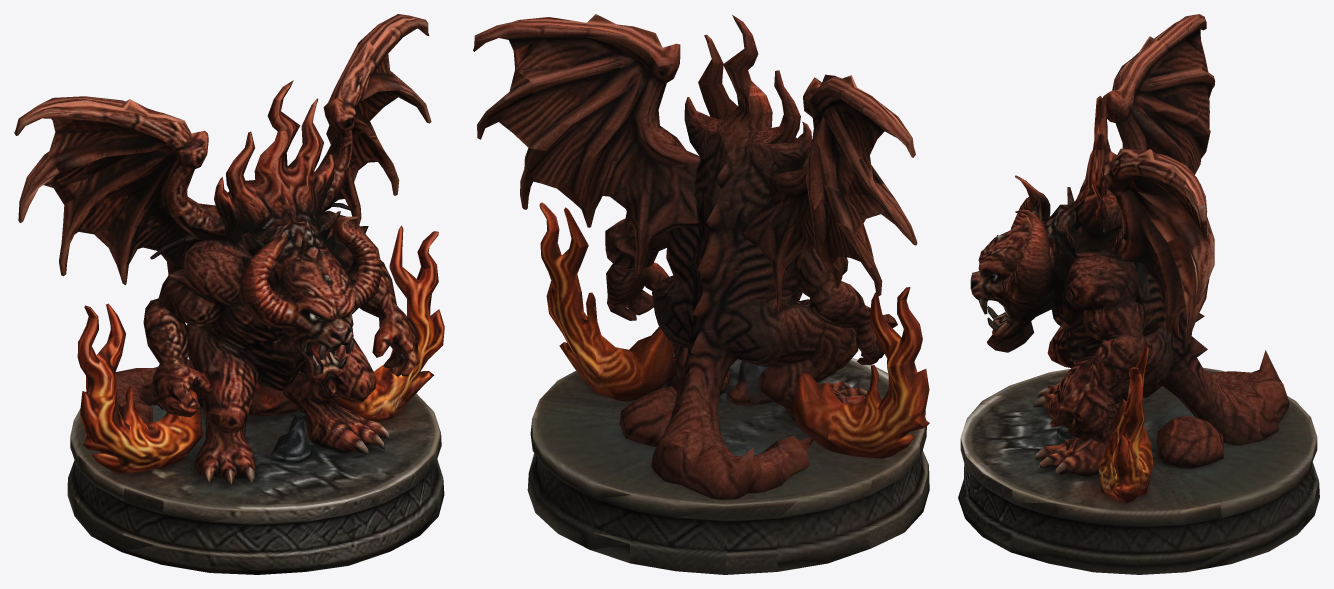
File: balrog.glb
The picture shows the model from 3 angles, left to right: view 1: azimuth 30°, elevation 25°; view 2: azimuth 150°, elevation 25°; view 3: azimuth 270°, elevation 25°; orthographic projection. The views are drawn at different scales.
Parts seen in each view (by area): view 1: mesh_node; view 2: mesh_node; view 3: mesh_node.
Part boxes in pixels (x1,y1,x2,y2): mesh_node: (14, 14, 444, 574); mesh_node: (473, 14, 929, 574); mesh_node: (958, 14, 1319, 574).
Bounding box in the file's own units: 1 × 0.9922 × 0.793.
1 material, 1 textured.
